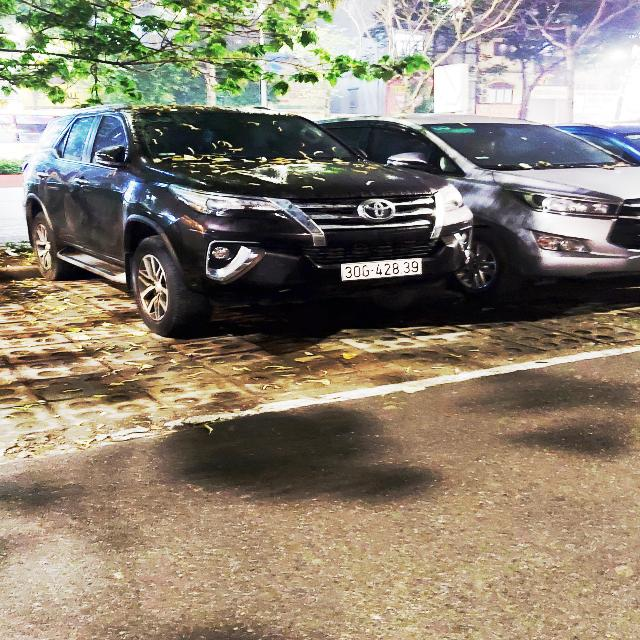license_plate: (340, 259, 424, 283)
